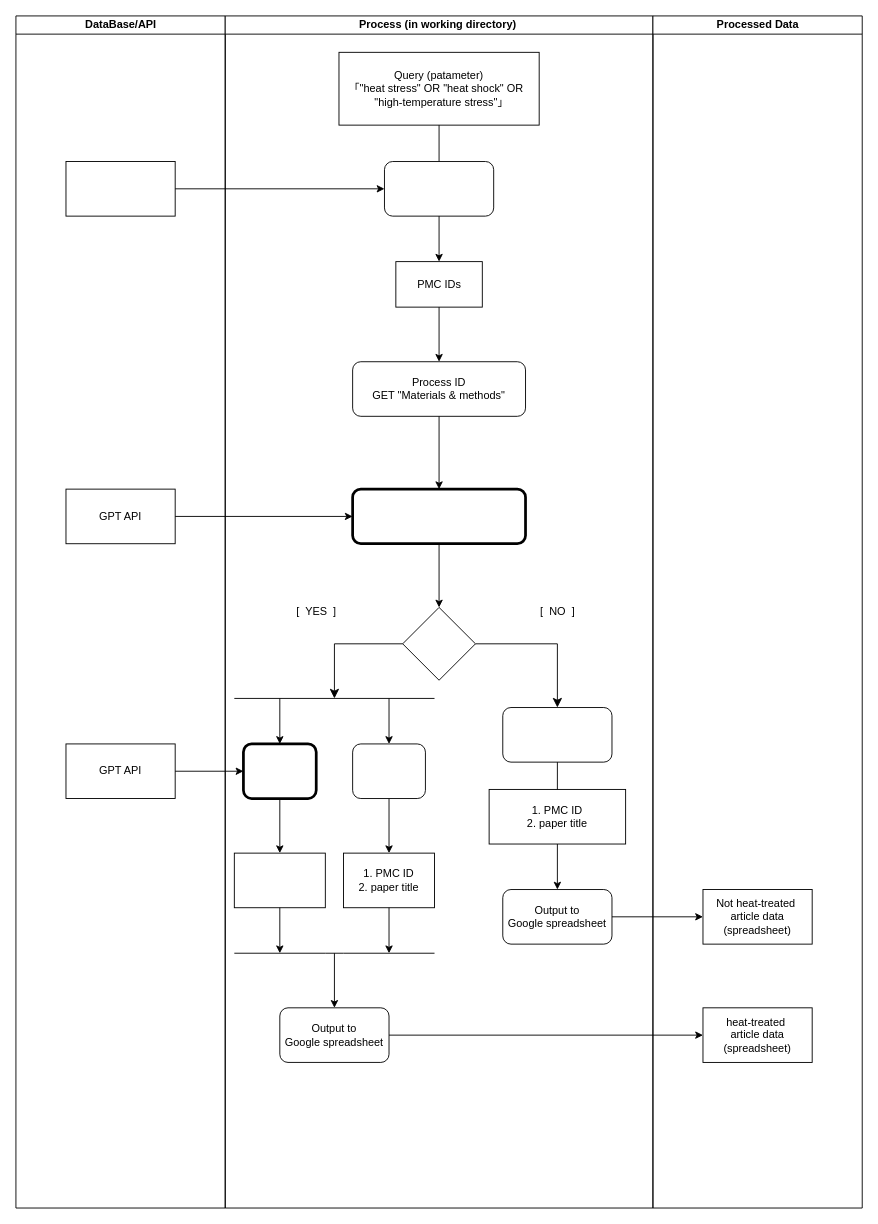
The diagram is 878 pixels wide and 1224 high, and some of its shapes have lost their labels. The centre of each missing label's shape, as x and y in pixels:
1. temperature 2. time 3. treatment: (x=279, y=880)
Determine if exposed to heat: (x=438, y=516)
E-utils ( PubMed API ): (x=120, y=188)
Get PMC ID, paper title: (x=557, y=734)
Get PMC ID. paper title: (x=388, y=771)
retrieve PMC IDs: (x=439, y=188)
word retrieval: (x=279, y=770)
